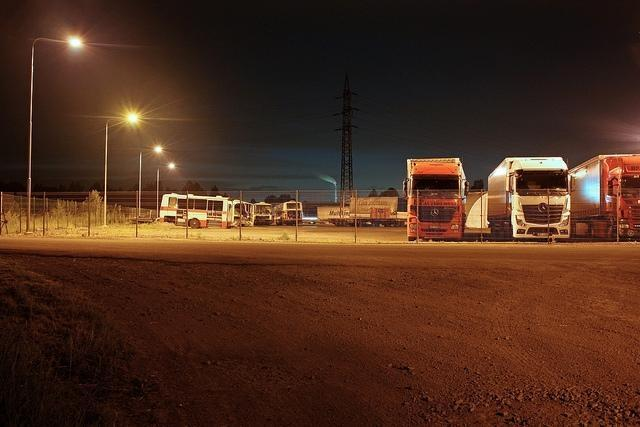bus: (401, 159, 469, 242), (159, 193, 233, 229), (274, 200, 302, 226), (232, 200, 254, 227), (253, 202, 272, 225)
truck: (487, 156, 571, 241), (570, 154, 640, 241), (406, 157, 472, 241)
